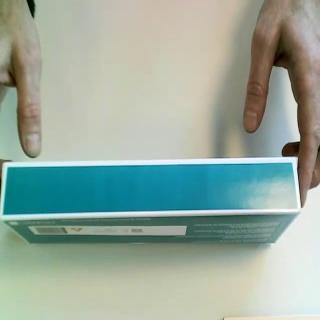metadon_hydrochlorid40mg: (1, 155, 304, 249)
